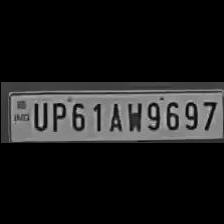1: (88, 98, 104, 132)
6: (67, 98, 87, 132), (162, 97, 180, 130)
7: (198, 97, 218, 130)
9: (142, 97, 162, 130), (180, 97, 198, 130)
A: (104, 98, 124, 132)
P: (46, 98, 66, 132)
U: (28, 98, 48, 132)
W: (124, 97, 142, 132)
